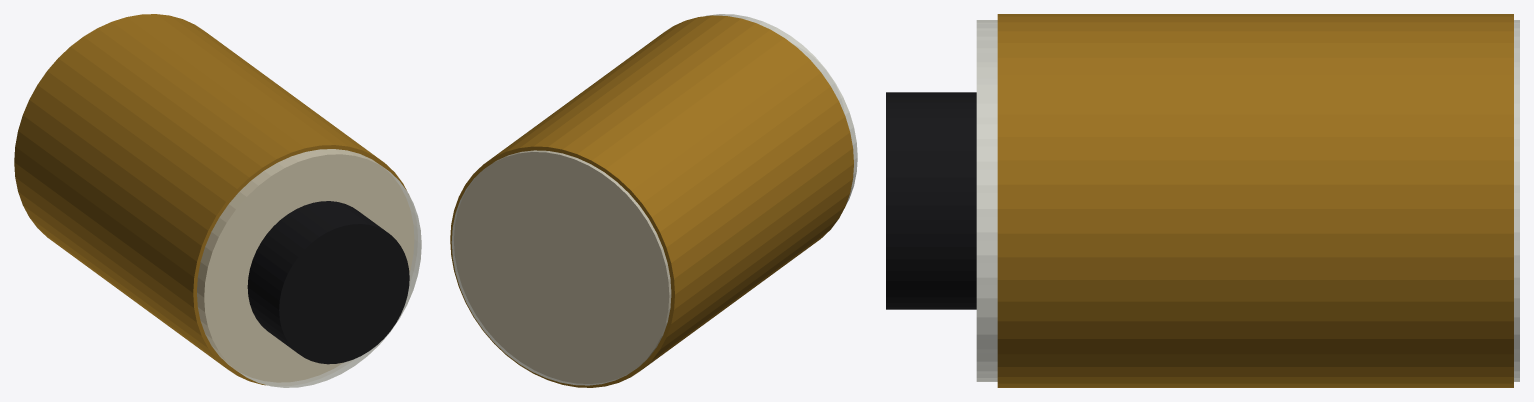
Rendered from grease_collector_full.glb.
3 views of the same model, side by side, from view 1: azimuth 30°, elevation 25°; view 2: azimuth 150°, elevation 25°; view 3: azimuth 270°, elevation 25° (orthographic). The views are drawn at different scales.
Visible parts, largest first — view 1: grease_collector_full; view 2: grease_collector_full; view 3: grease_collector_full.
Boxes of the visible parts, x1,y1,x2,y2 form: grease_collector_full: (14, 14, 421, 387); grease_collector_full: (450, 14, 857, 387); grease_collector_full: (886, 14, 1519, 387).
Bounding box in the file's own units: 0.124 × 0.124 × 0.21.
